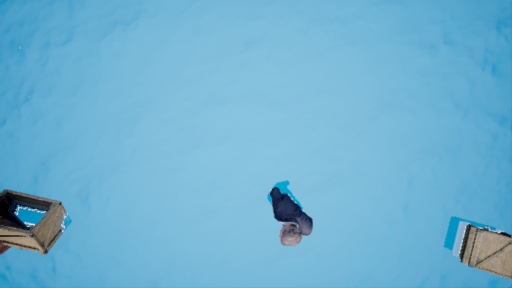person: (264, 179, 316, 246)
